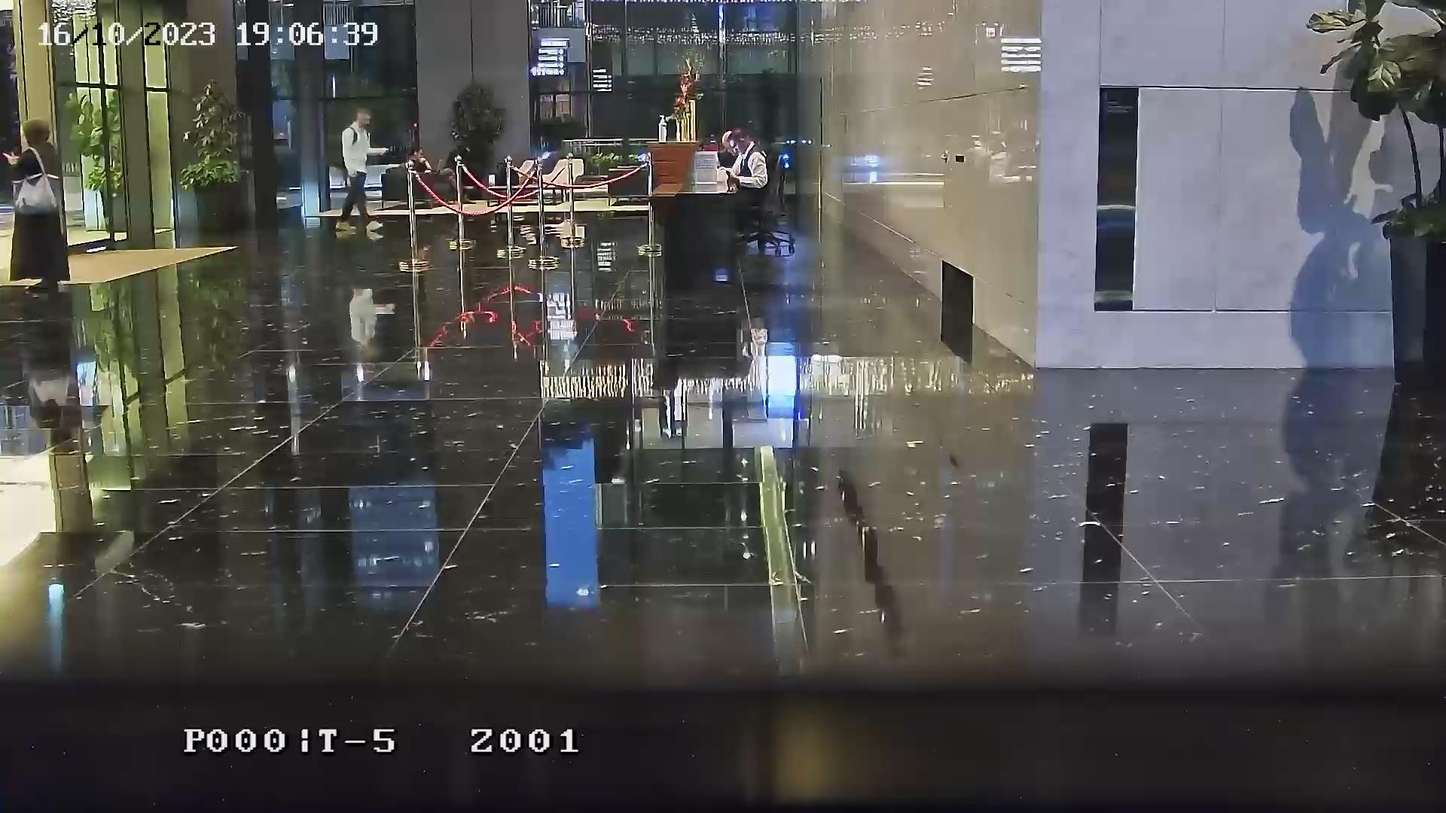person: (6, 115, 69, 283), (337, 107, 383, 227), (407, 144, 477, 207), (727, 128, 770, 205)
